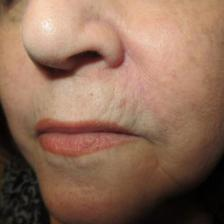Dry: (0, 0, 223, 216)
